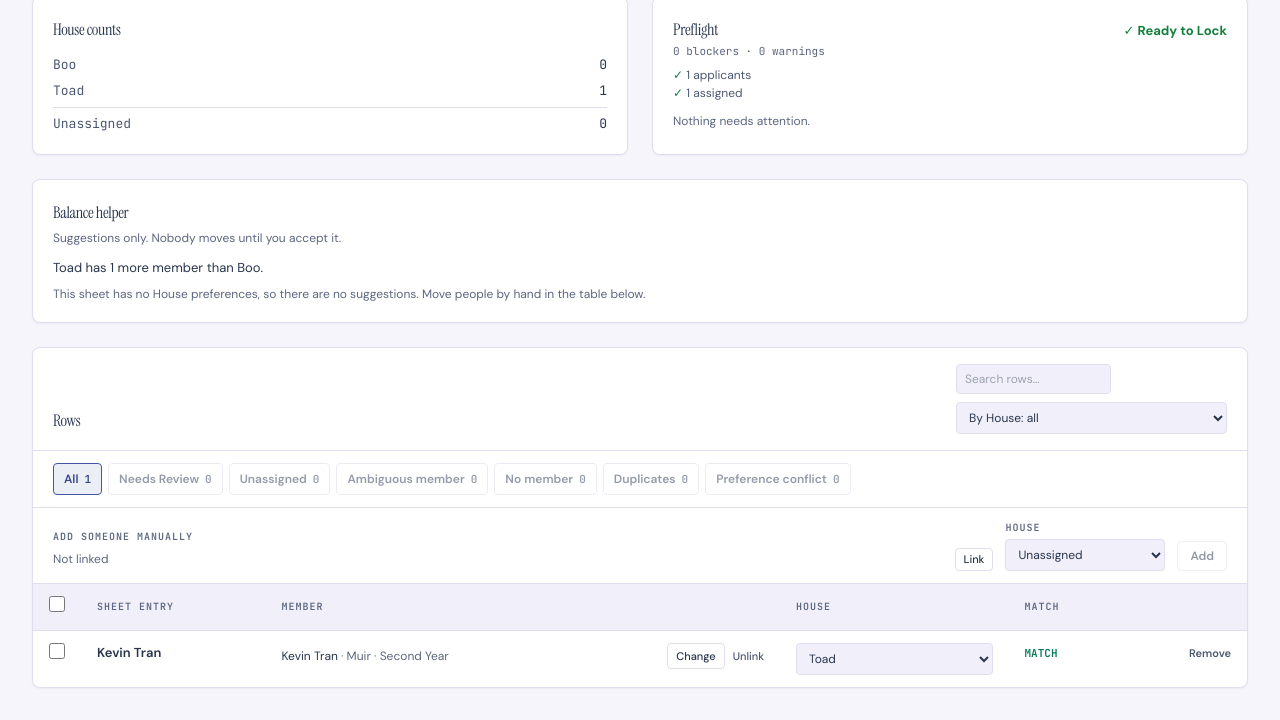
Test: saves a House change for a row and updates the counts
(page scrolled)
Select "Boo" in the dropdown named "House for Kevin Tran" at (894, 658), box [796,642,992,674]
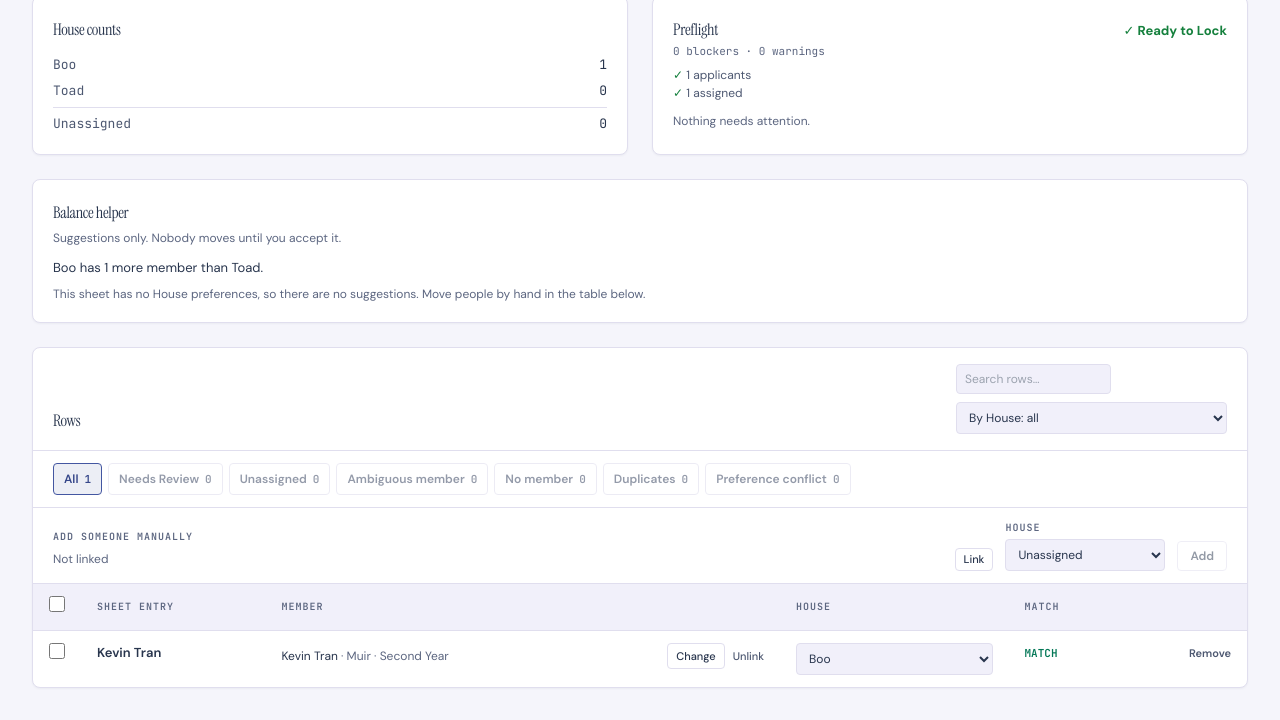
Result: the element with test id "house-count-Boo" reads "Boo 1" at [53,54,607,74]
